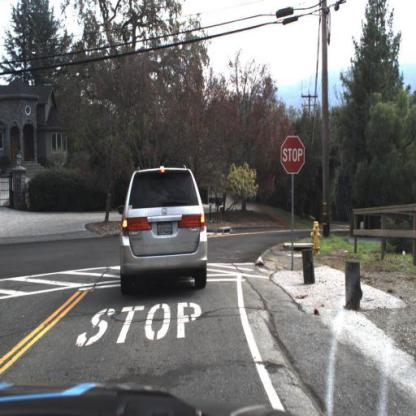car: (118, 163, 208, 295)
